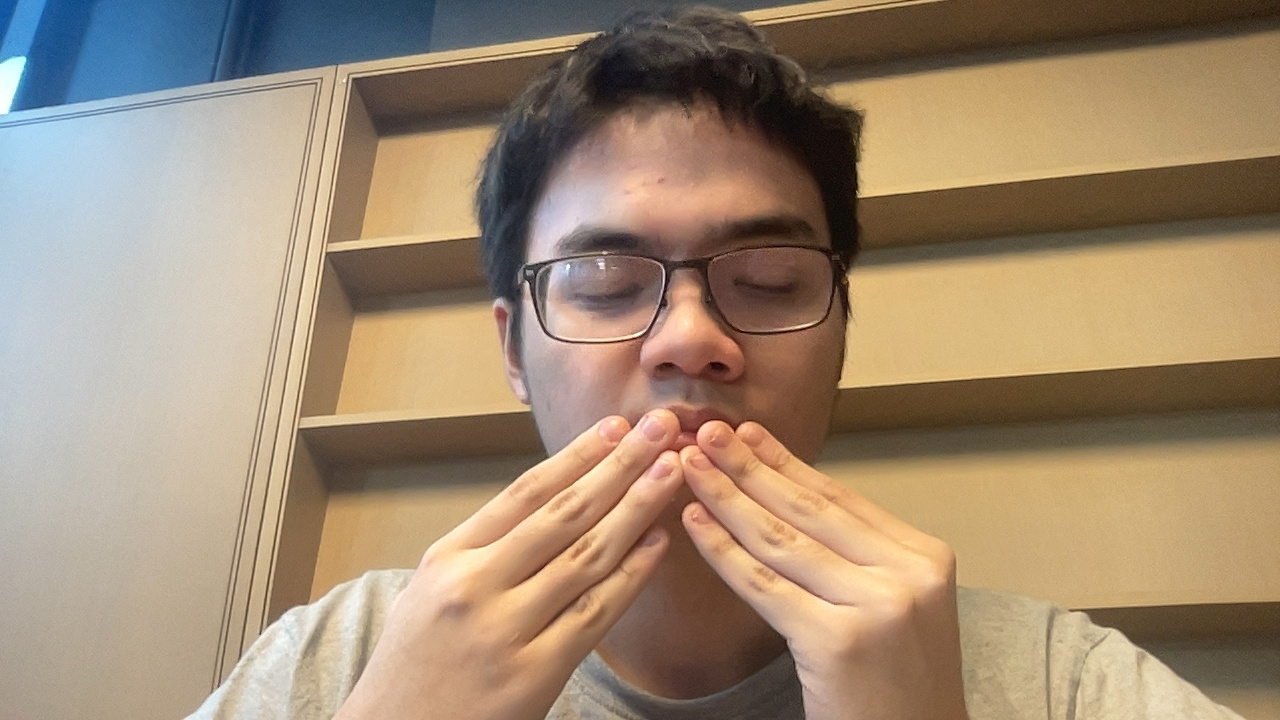thankyou: (394, 384, 1002, 694)
